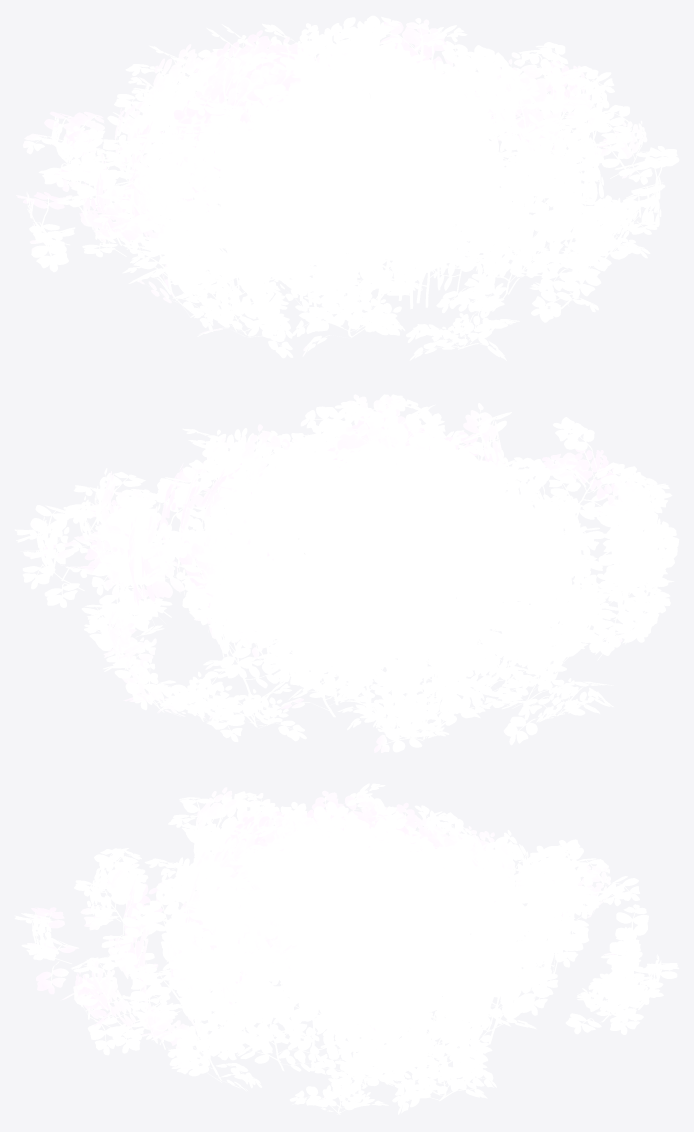
3 views of the same model, one above another, from view 1: azimuth 30°, elevation 25°; view 2: azimuth 150°, elevation 25°; view 3: azimuth 270°, elevation 25° (orthographic). The views are drawn at different scales.
Parts seen in each view (by area): view 1: SM_GF_Medium_Bush_01_B_Woods_LOD0; view 2: SM_GF_Medium_Bush_01_B_Woods_LOD0; view 3: SM_GF_Medium_Bush_01_B_Woods_LOD0.
Part boxes in pixels (<box>): SM_GF_Medium_Bush_01_B_Woods_LOD0: <box>16,15,679,360</box>; SM_GF_Medium_Bush_01_B_Woods_LOD0: <box>14,394,679,752</box>; SM_GF_Medium_Bush_01_B_Woods_LOD0: <box>14,783,679,1114</box>.
Size of the model in its own units: 3.39 by 1.26 by 3.62.
1 material, 1 textured.
